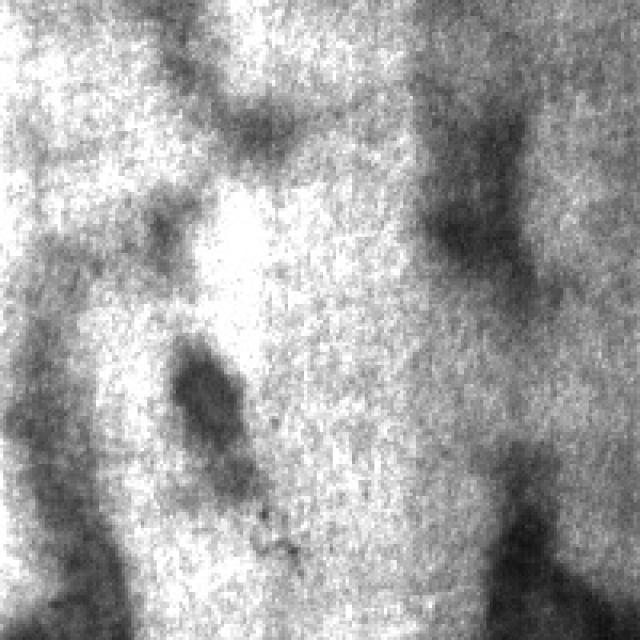patches: (0, 278, 128, 637), (483, 445, 634, 637), (410, 80, 534, 298), (157, 339, 266, 499)
